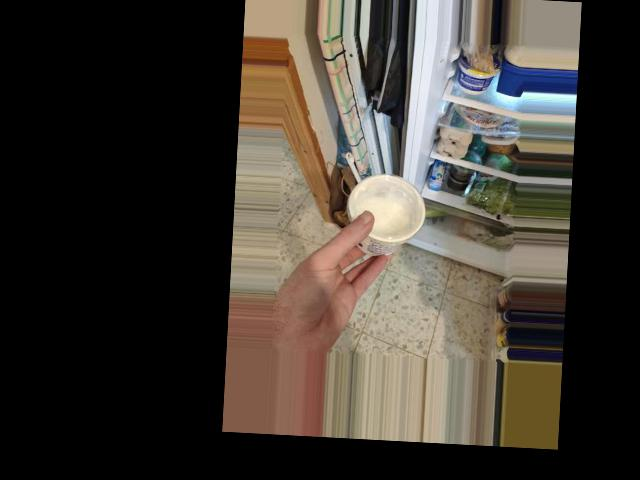cotage: (341, 168, 413, 257)
